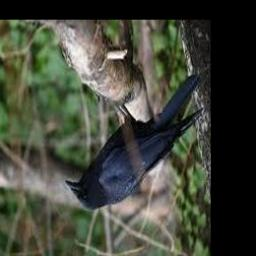Crow: (65, 71, 207, 211)
